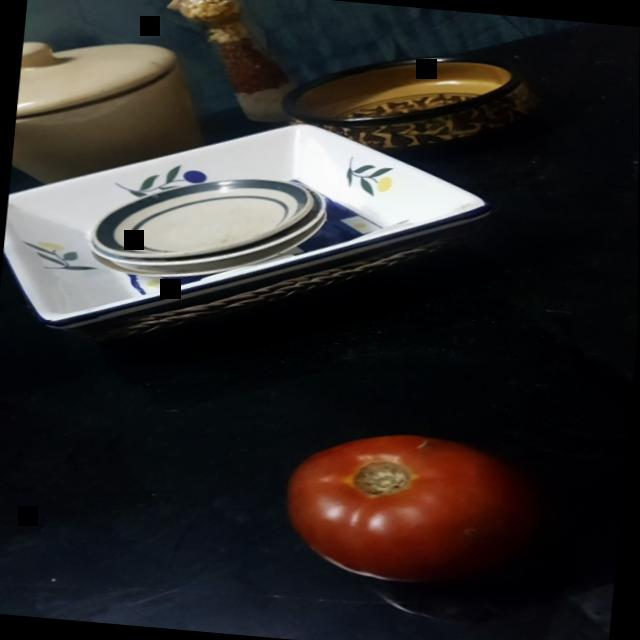tomato: (259, 402, 541, 610)
